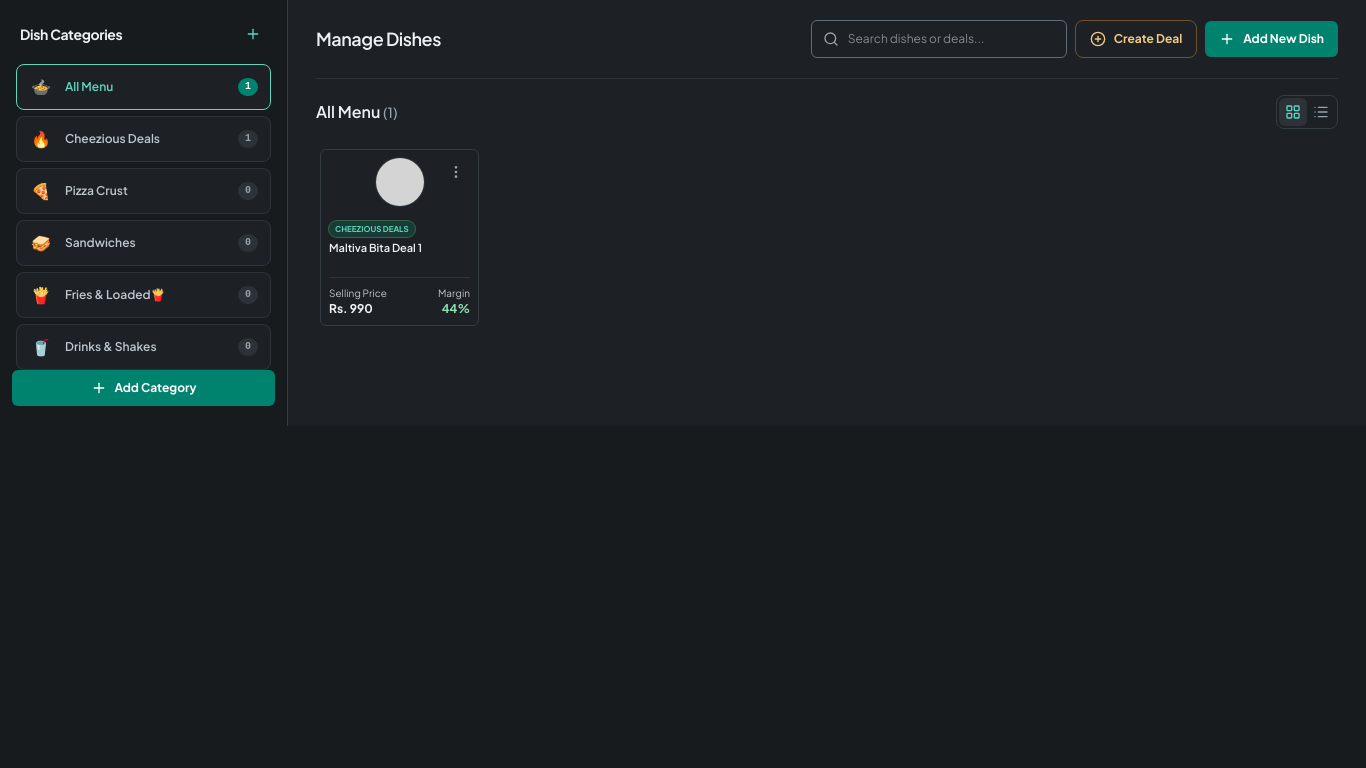
Test case: workflow remediation › retains the product and confirmation after a failed delete
What coordinates should you click on to do the following:
click the button named "Actions for Maltiva Bita Deal 1"
I would click on:
 (456, 172)
Its box is [442, 158, 470, 186].
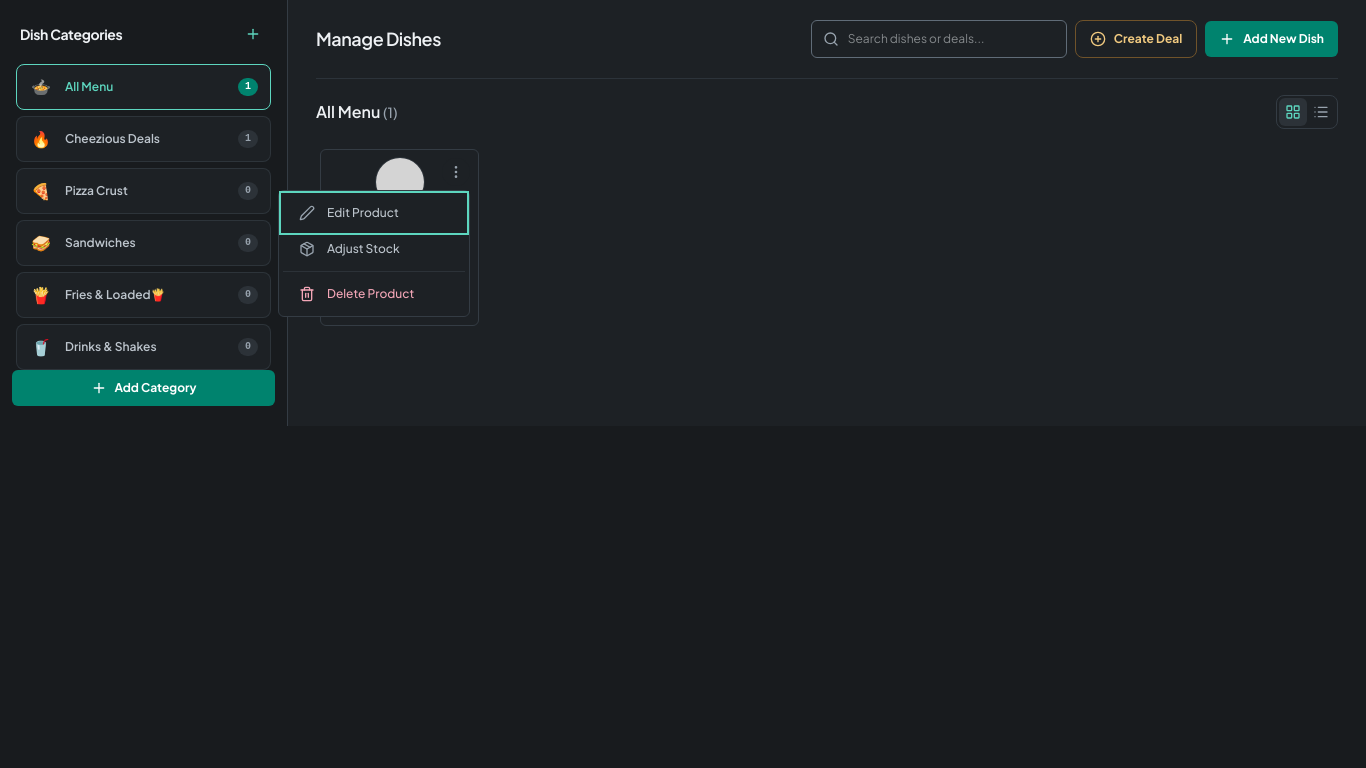
What coordinates should you click on to do the following:
click the menu item "Delete Product"
I would click on:
 (374, 294)
Its box is [283, 276, 465, 312].
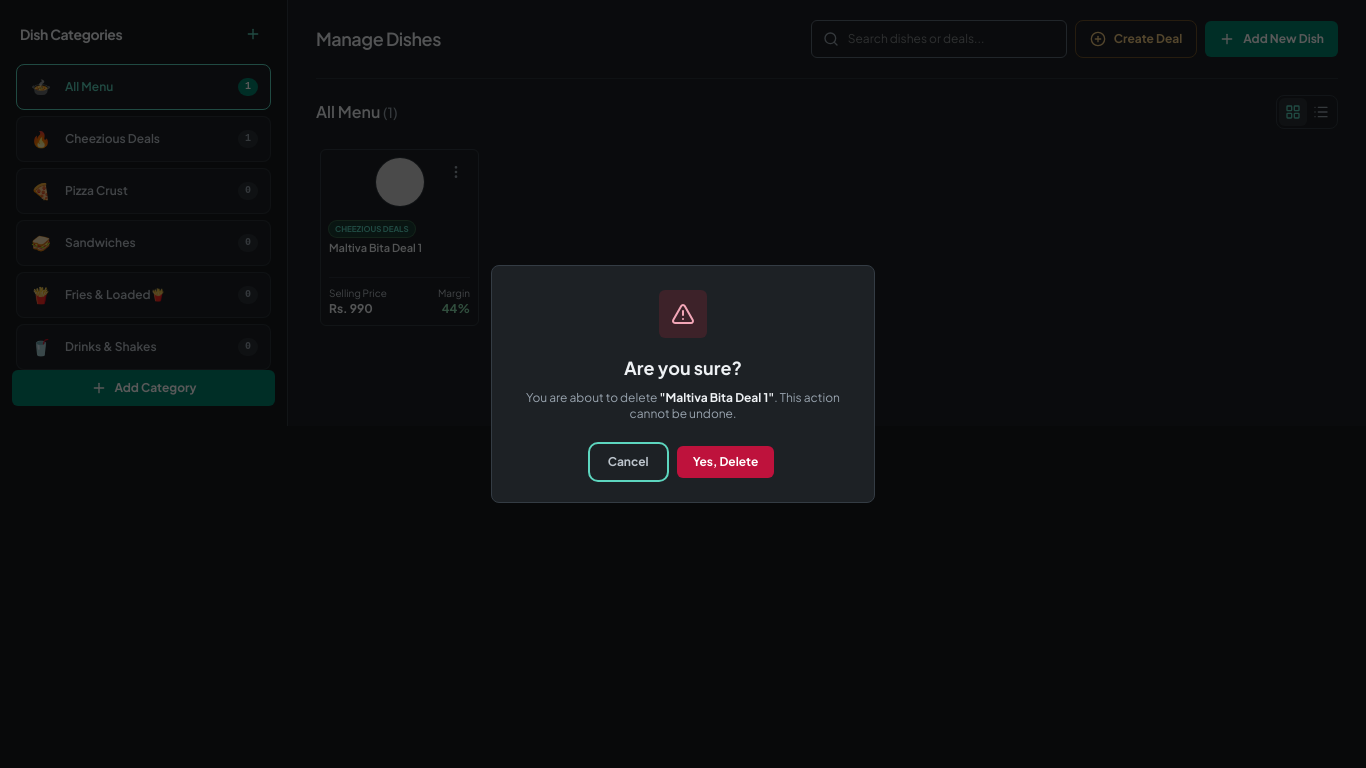
What coordinates should you click on to do the following:
click the button "Yes, Delete"
I would click on:
 (726, 462)
Its box is [677, 446, 774, 478].
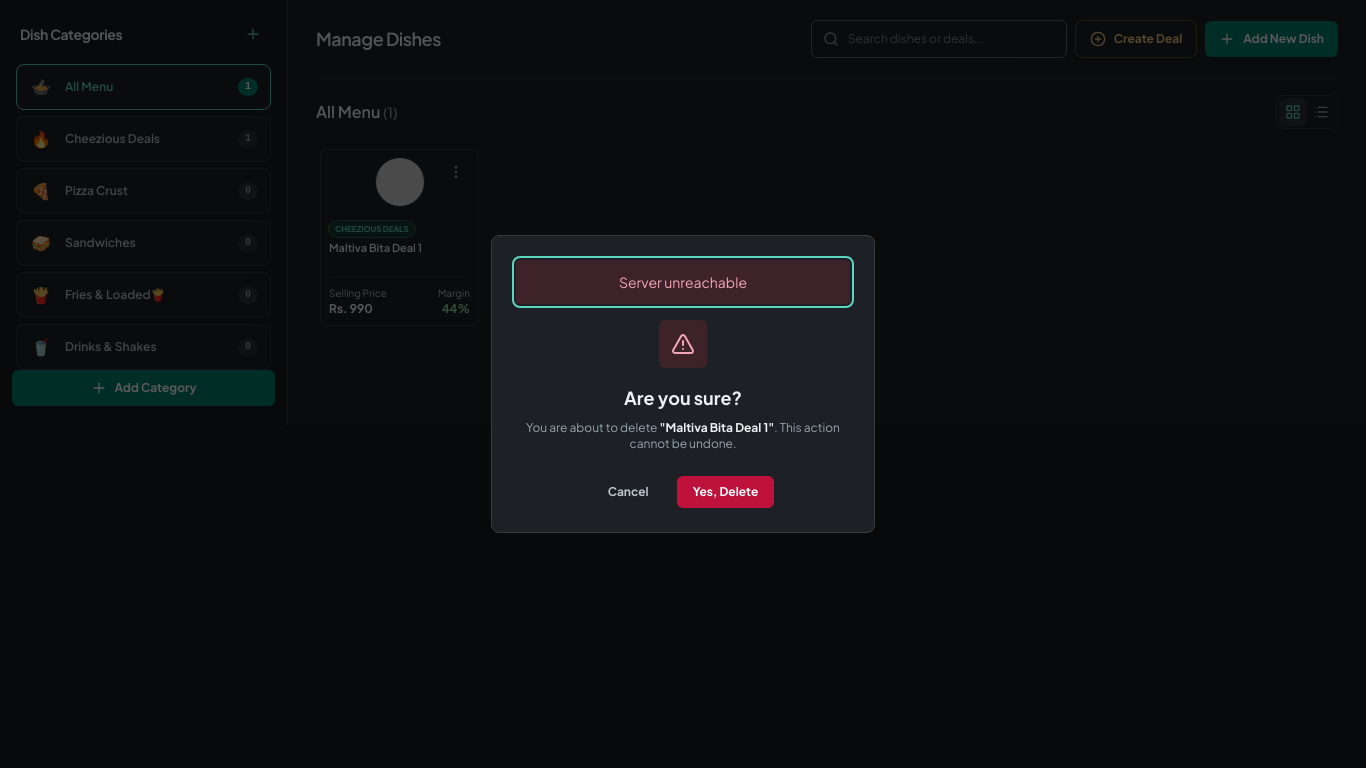
Now the button "Yes, Delete" is enabled, box [677, 476, 774, 508]
Now the message reads "Server unreachable", box [619, 273, 747, 291]
